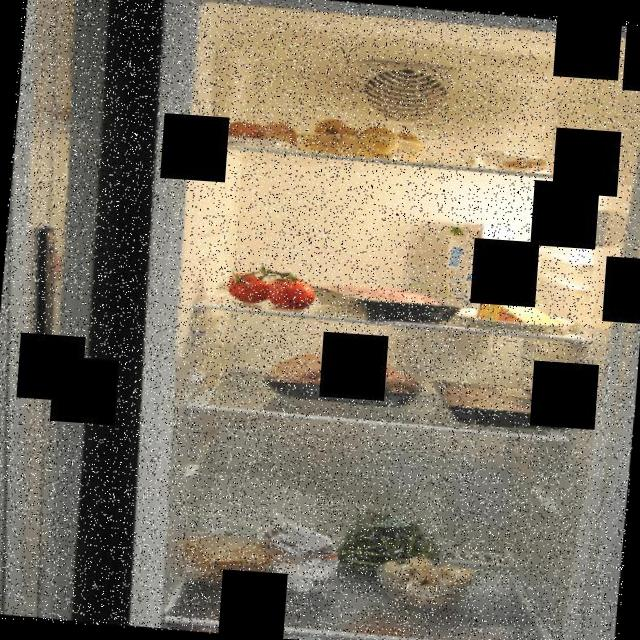Carne pollo: (261, 343, 426, 410), (443, 384, 552, 424)
Champiñones: (378, 553, 478, 611)
Gambas/Langostinos: (464, 147, 578, 178)
Huevos: (221, 114, 297, 150)
Leche: (439, 216, 514, 318)
Patata: (296, 114, 422, 162)
Queso: (477, 287, 567, 331)
Tomate: (216, 260, 318, 310)
